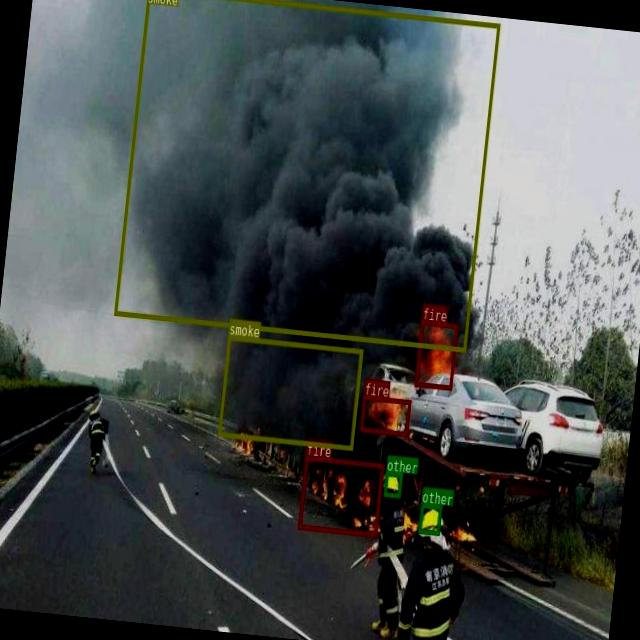fire: (297, 454, 383, 536), (413, 319, 458, 389), (358, 394, 411, 436)
smoke: (112, 0, 499, 351), (216, 334, 362, 448)
